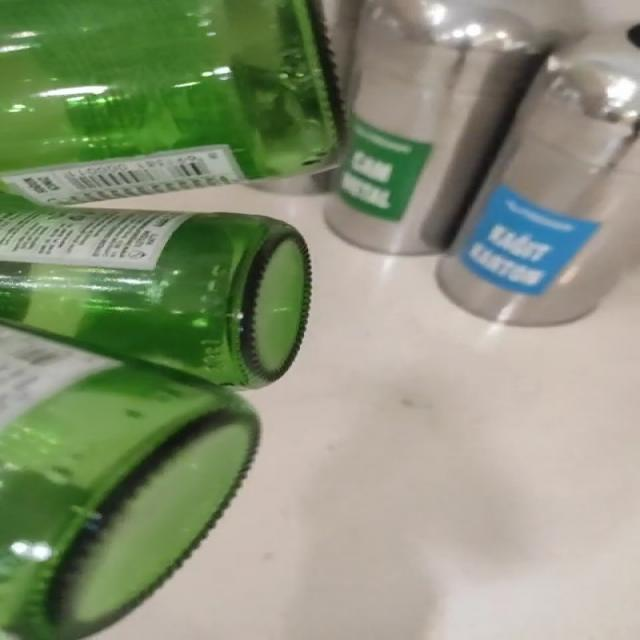glass: (0, 0, 343, 640)
